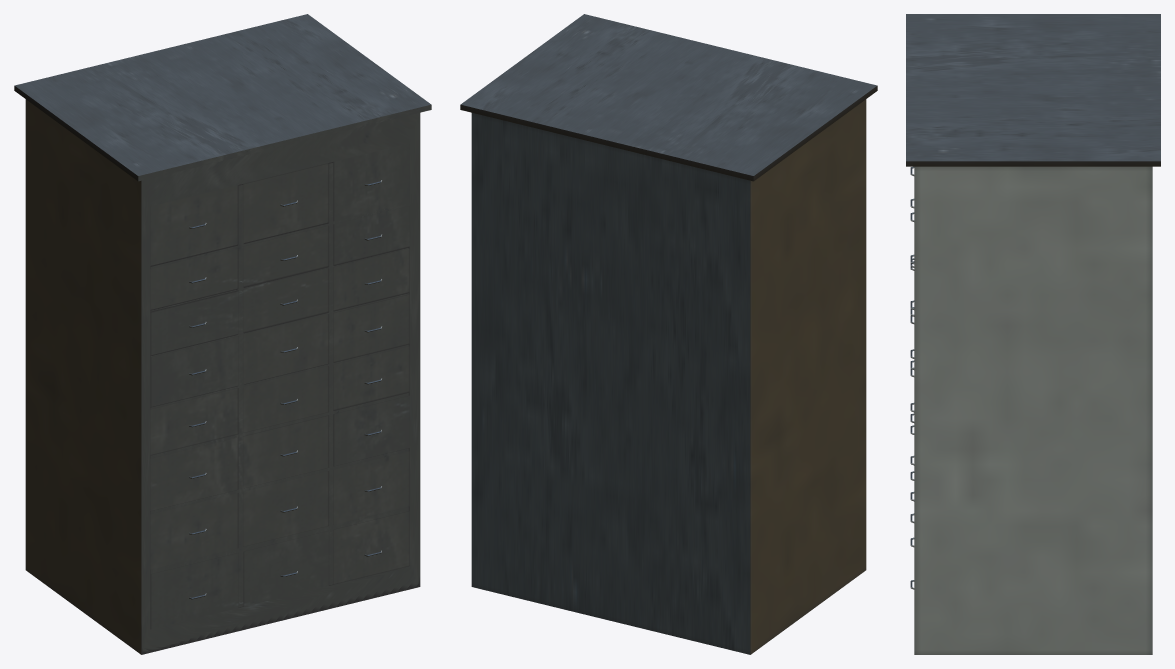
File: armario_de_arquivos.fbx
The picture shows the model from 3 angles, left to right: view 1: azimuth 30°, elevation 25°; view 2: azimuth 150°, elevation 25°; view 3: azimuth 270°, elevation 25°; orthographic projection. The views are drawn at different scales.
Parts seen in each view (by area): view 1: Cylinder; view 2: Cylinder; view 3: Cylinder.
Boxes of the visible parts, left/top/right/bottom form: Cylinder: left=14, top=14, right=431, bottom=654; Cylinder: left=460, top=14, right=877, bottom=654; Cylinder: left=906, top=14, right=1160, bottom=654.
Size of the model in its own units: 199 by 313 by 145.
Materials: 1 (1 with a texture image).
